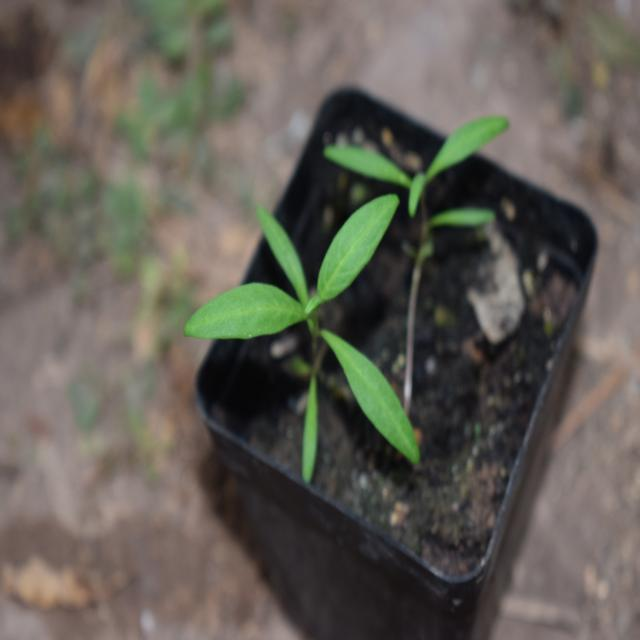white_smart_weed: (184, 174, 432, 482)
